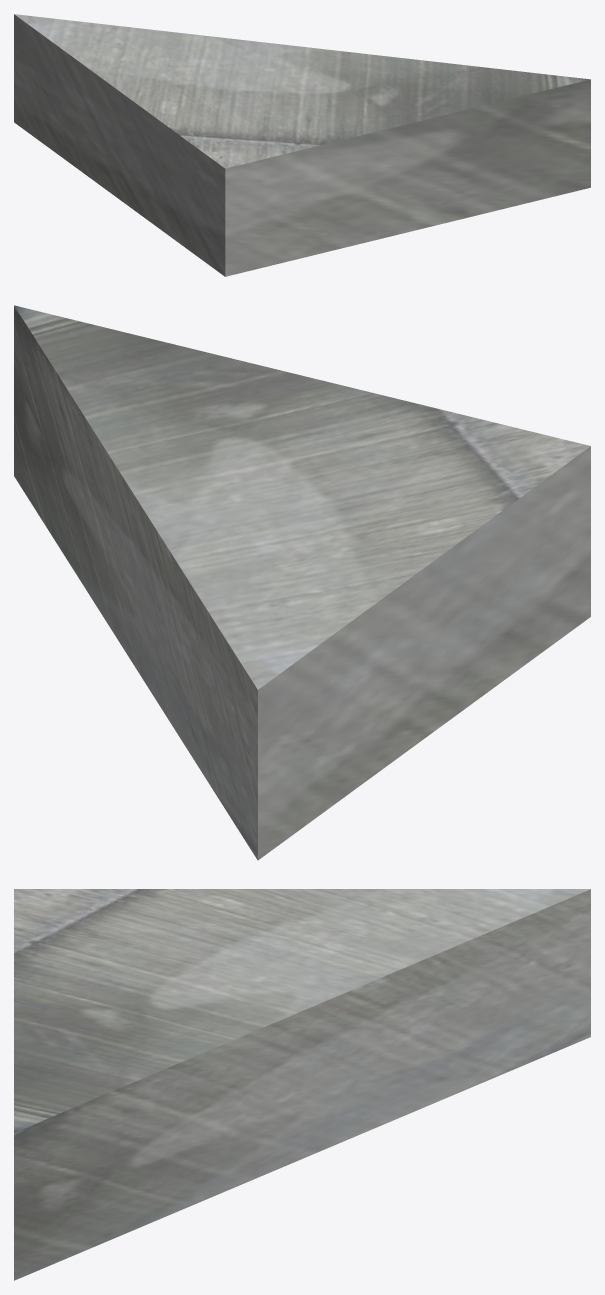
The model's file is sodium.fbx.
3 views of the same model, one above another, from view 1: azimuth 30°, elevation 25°; view 2: azimuth 150°, elevation 25°; view 3: azimuth 270°, elevation 25° (orthographic). The views are drawn at different scales.
Visible parts, largest first — view 1: sodium1; view 2: sodium1; view 3: sodium1.
Part boxes in pixels (left/top/right/bottom): sodium1: left=14, top=14, right=590, bottom=276; sodium1: left=14, top=305, right=590, bottom=860; sodium1: left=14, top=889, right=590, bottom=1280.
Size of the model in its own units: 4.81 by 1.36 by 4.81.
Materials: 1 (1 with a texture image).
